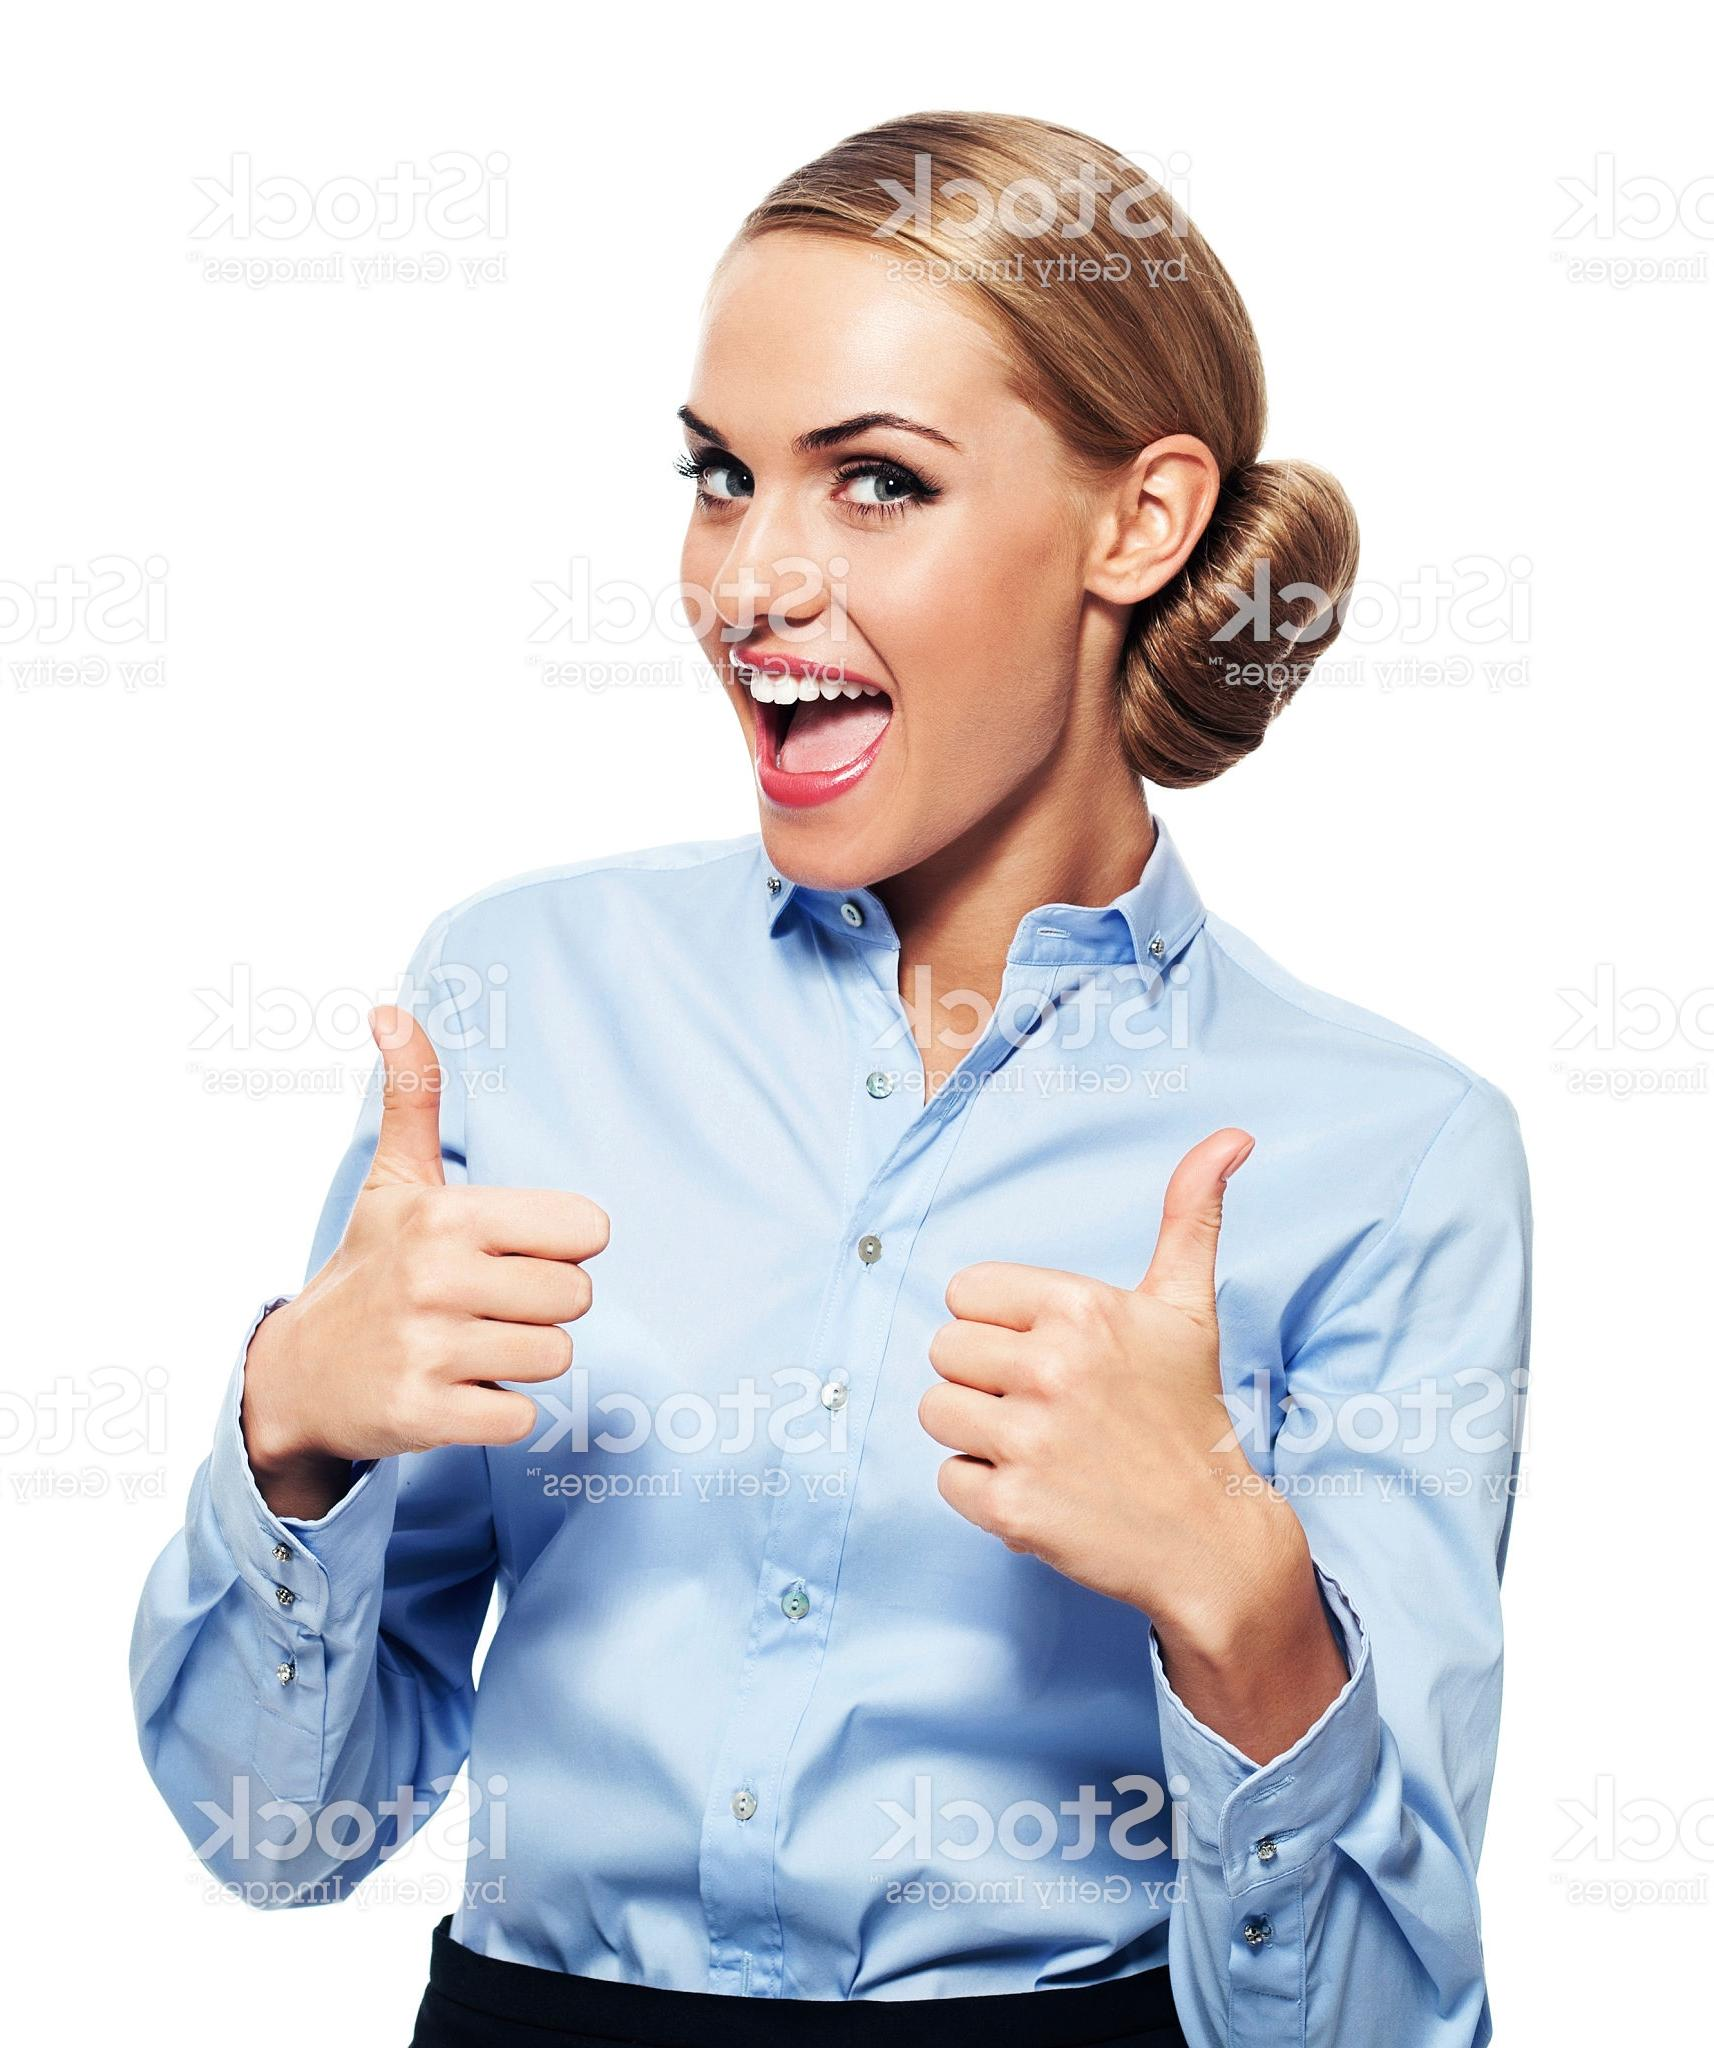thumbsup: (915, 1123, 1258, 1609), (311, 1000, 619, 1468)
